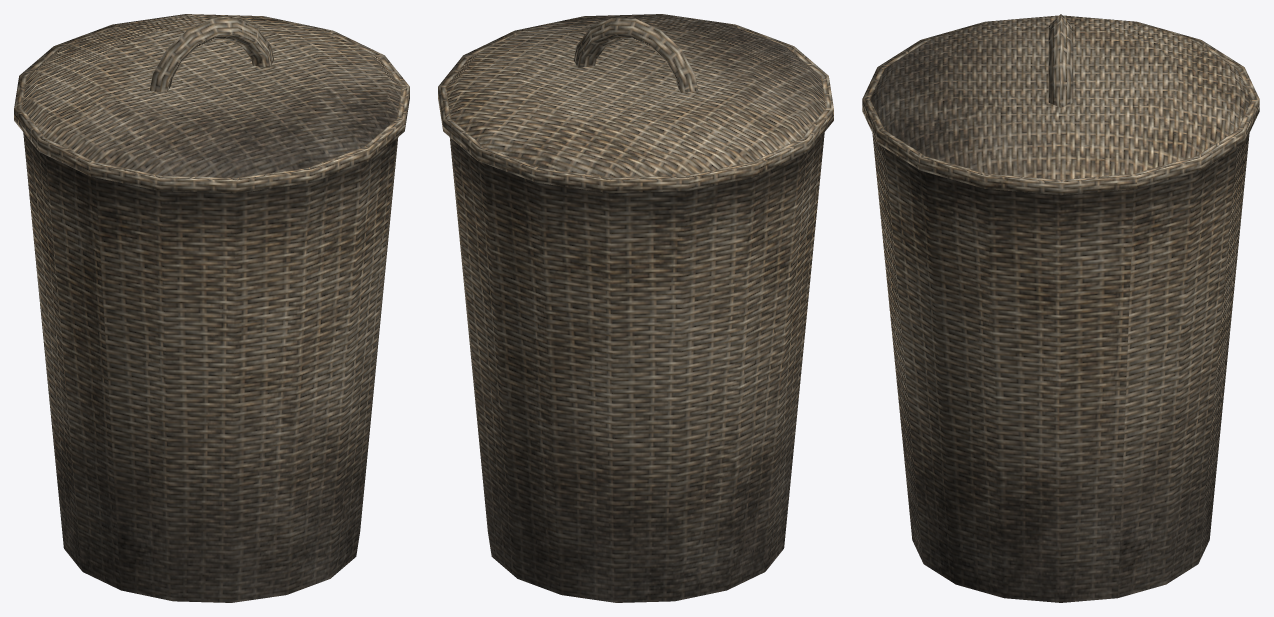
File: Basket1.fbx
3 views of the same model, side by side, from view 1: azimuth 30°, elevation 25°; view 2: azimuth 150°, elevation 25°; view 3: azimuth 270°, elevation 25° (orthographic).
Parts seen in each view (by area): view 1: polySurface253; view 2: polySurface253; view 3: polySurface253.
Boxes of the visible parts, left/top/right/bottom form: polySurface253: left=14, top=14, right=409, bottom=602; polySurface253: left=438, top=14, right=833, bottom=602; polySurface253: left=862, top=14, right=1259, bottom=602.
Bounding box in the file's own units: 0.9137 × 1.32 × 0.9137.
Materials: 1 (1 with a texture image).
